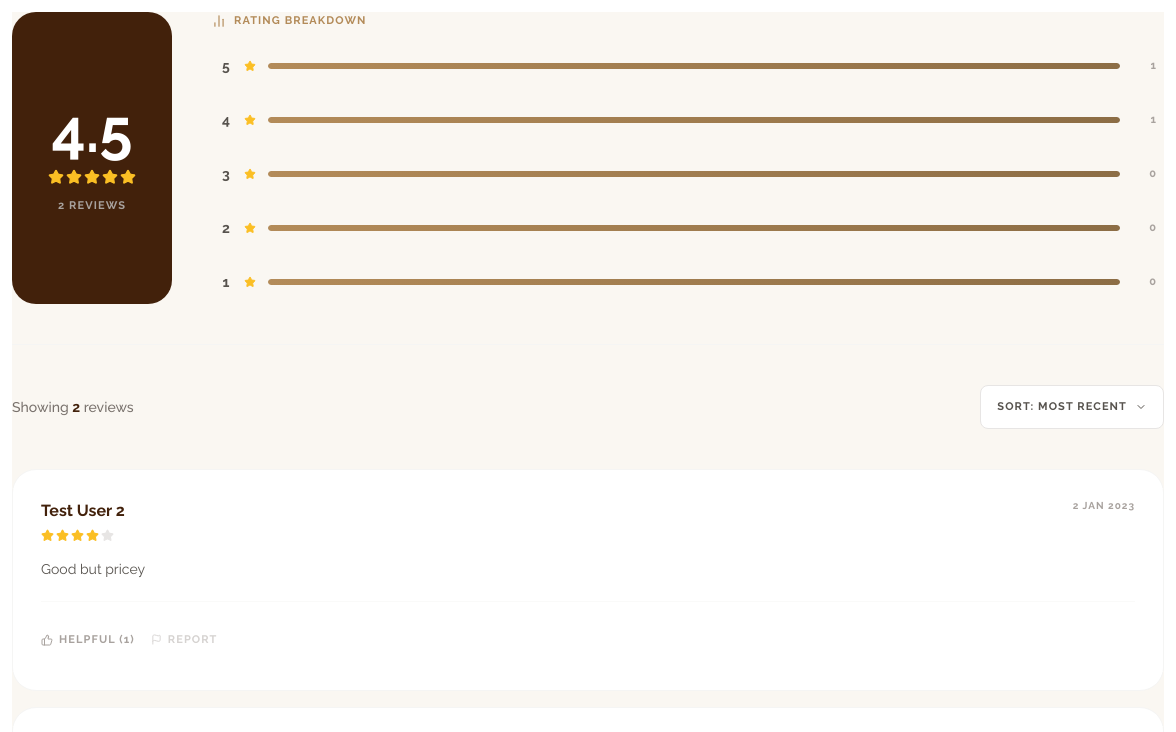
Test: ReviewWidget › filters reviews by star rating
// Click on 5 star filter
Click the button "5 1": (688, 66) left=212, top=44, right=1164, bottom=88
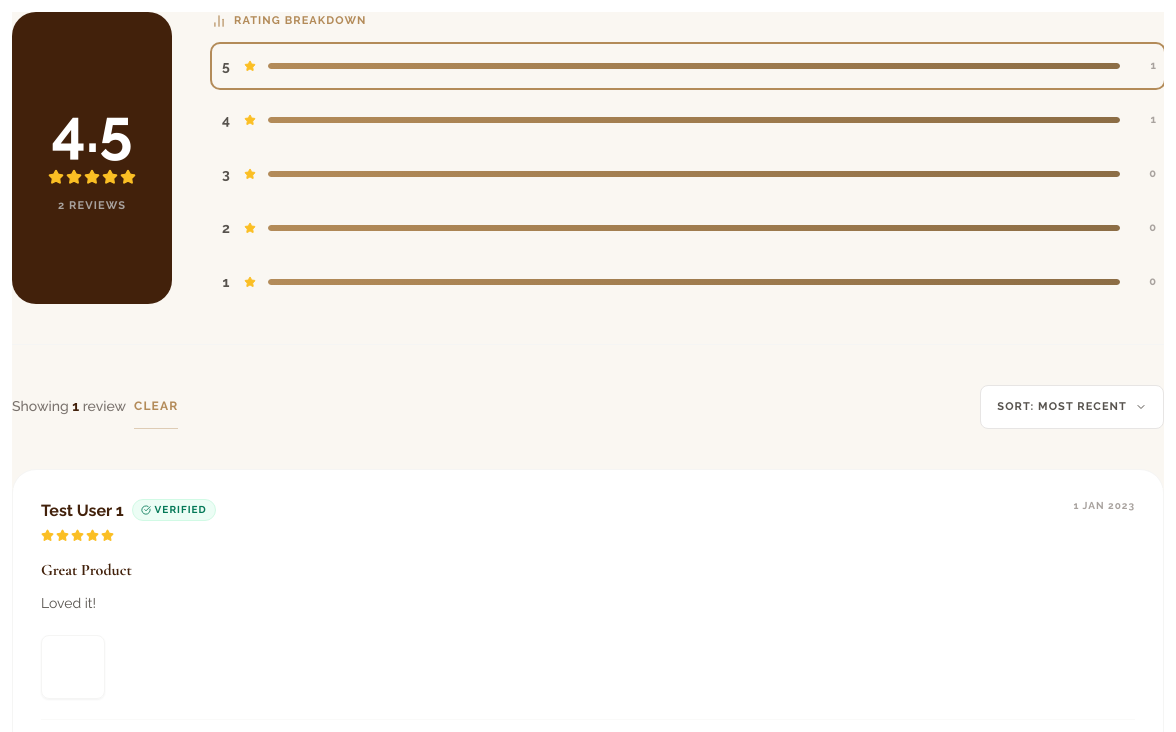
expect the text "Test User 1" is shown: met, box left=41, top=498, right=124, bottom=523
expect the text "Test User 2" is gone: met
// Clear filter
Click the button "Clear": (156, 407) left=134, top=385, right=178, bottom=429
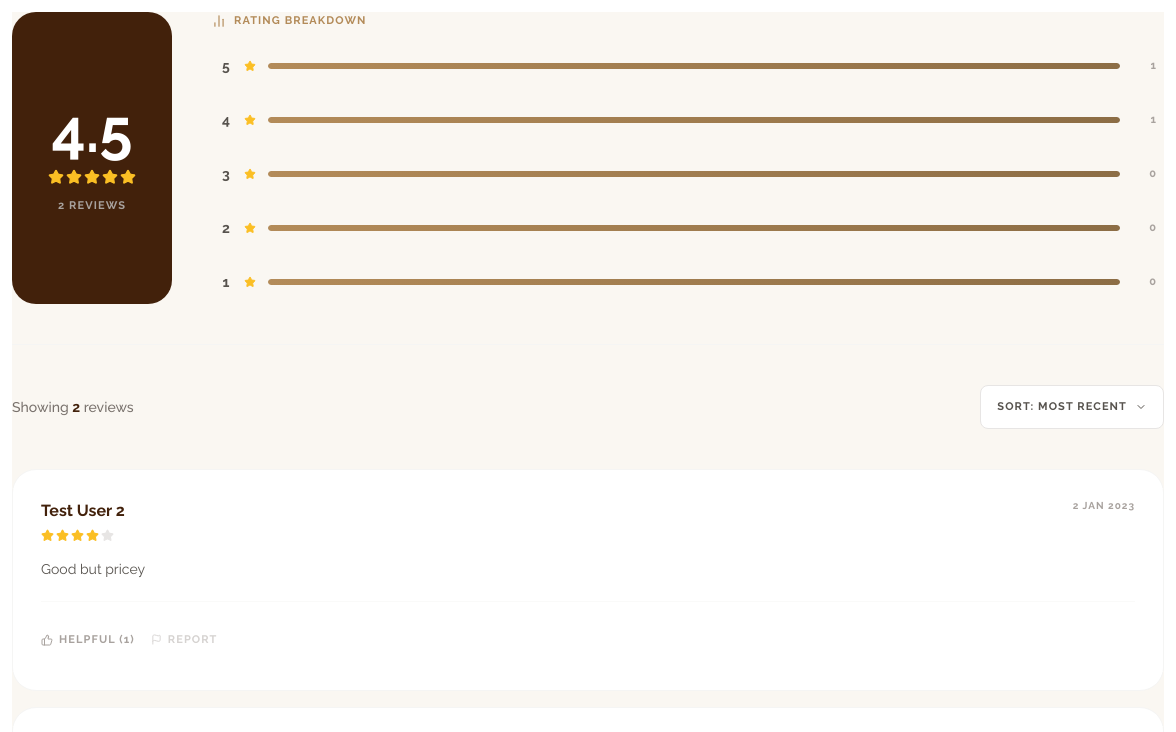
expect the text "Test User 2" is shown: met, box left=41, top=498, right=125, bottom=523
